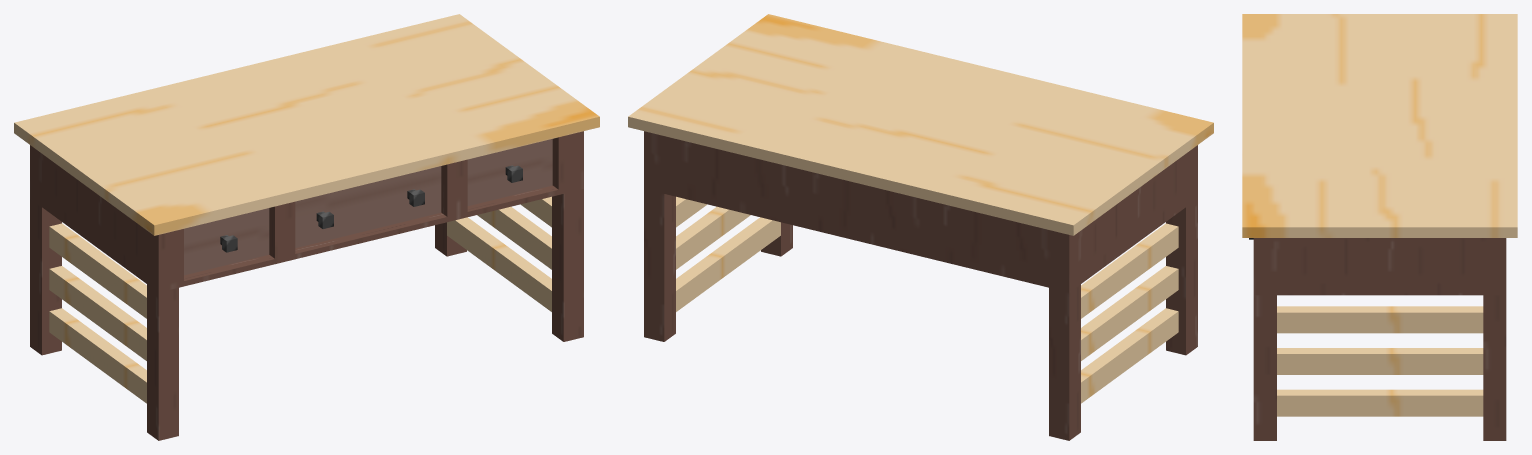
File: desk_finalized.fbx
3 views of the same model, side by side, from view 1: azimuth 30°, elevation 25°; view 2: azimuth 150°, elevation 25°; view 3: azimuth 270°, elevation 25° (orthographic).
Parts seen in each view (by area): view 1: desk, middle_drawer, left_drawer, right_drawer; view 2: desk; view 3: desk.
Part boxes in pixels (bbox=[...]): desk: bbox=[14, 14, 599, 440]; middle_drawer: bbox=[295, 166, 441, 248]; left_drawer: bbox=[184, 208, 269, 275]; right_drawer: bbox=[467, 139, 552, 205]; desk: bbox=[628, 14, 1213, 440]; desk: bbox=[1242, 14, 1517, 440].
Size of the model in its own units: 4.4 by 2.1 by 2.4.
Materials: 4 (4 with a texture image).
